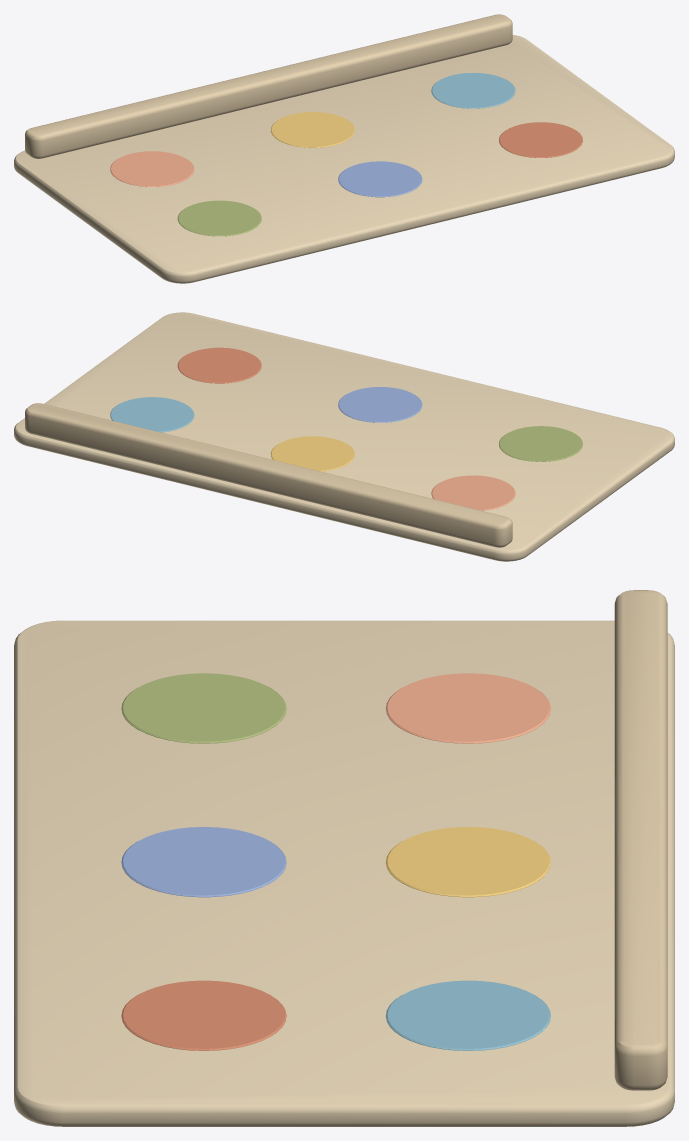
Rendered from table.glb.
3 renders of one model, top to bottom at view 1: azimuth 30°, elevation 25°; view 2: azimuth 150°, elevation 25°; view 3: azimuth 270°, elevation 25°, orthographic. The views are drawn at different scales.
Parts seen in each view (by area): view 1: Top, Rail, Spot4, Spot5, Spot3, Spot1, Spot2, Spot6; view 2: Top, Rail, Spot6, Spot5, Spot4, Spot1, Spot2, Spot3; view 3: Top, Rail, Spot1, Spot4, Spot2, Spot3, Spot5, Spot6.
Part boxes in pixels (box(x1,y1,x2,y2)): Top: box(14, 35, 674, 283); Rail: box(25, 14, 512, 158); Spot4: box(177, 200, 261, 236); Spot5: box(338, 161, 422, 197); Spot3: box(431, 73, 515, 108); Spot1: box(110, 151, 194, 186); Spot2: box(270, 112, 354, 147); Spot6: box(499, 122, 582, 157); Top: box(14, 312, 674, 561); Rail: box(25, 403, 512, 547); Spot6: box(177, 347, 261, 383); Spot5: box(338, 387, 422, 422); Spot4: box(499, 426, 582, 461); Spot1: box(431, 475, 515, 510); Spot2: box(270, 436, 354, 471); Spot3: box(110, 397, 194, 432); Top: box(14, 620, 674, 1126); Rail: box(614, 590, 667, 1090); Spot1: box(385, 673, 550, 743); Spot4: box(121, 673, 286, 743); Spot2: box(385, 827, 550, 897); Spot3: box(386, 980, 550, 1050); Spot5: box(121, 827, 286, 897); Spot6: box(121, 980, 286, 1050).
Bounding box in the file's own units: 0.7 × 0.045 × 0.4.
